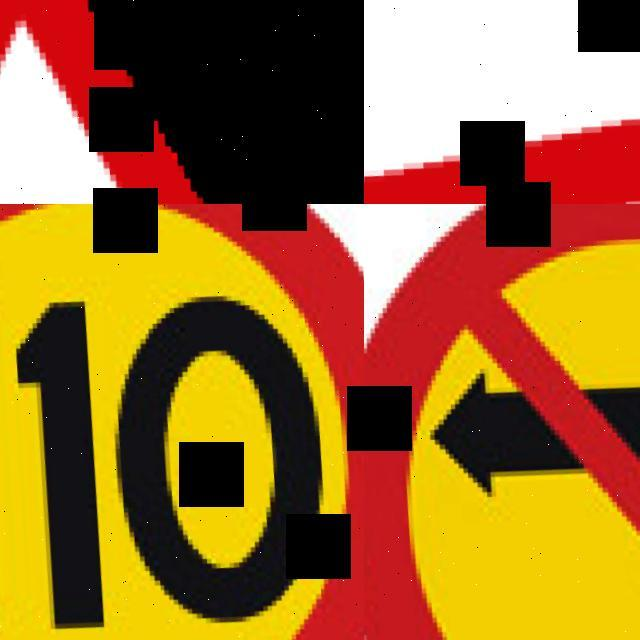55: (0, 204, 364, 640)
Level crossing countdown marker: (364, 0, 640, 204)
Road hump: (0, 0, 364, 204)
no turning left: (364, 204, 640, 640)
